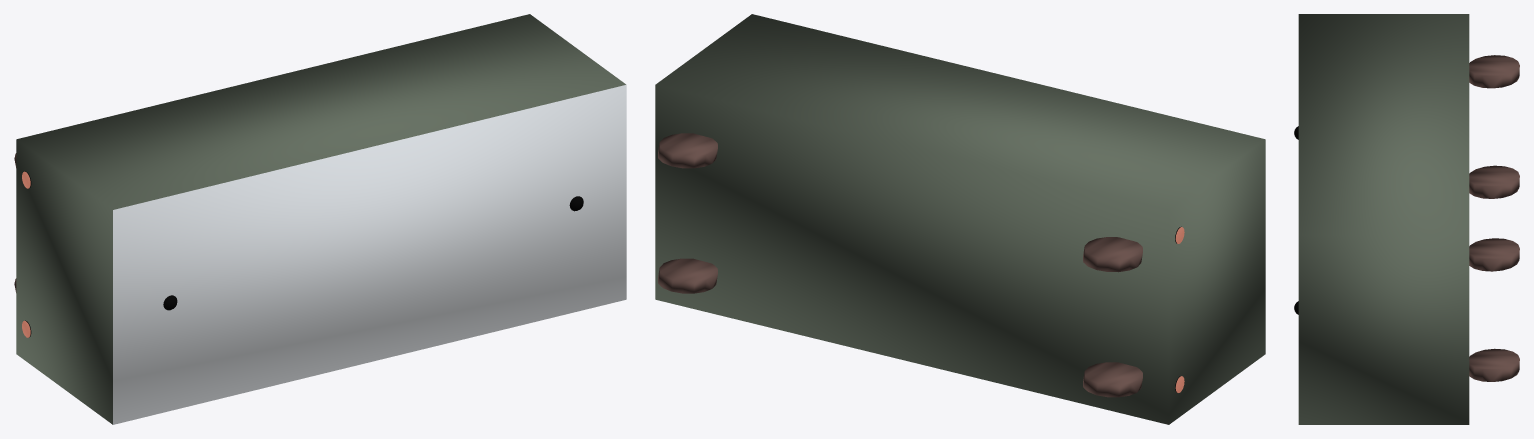
File: asset3.glb
3 renders of one model, left to right at view 1: azimuth 30°, elevation 25°; view 2: azimuth 150°, elevation 25°; view 3: azimuth 270°, elevation 25°, orthographic. The views are drawn at different scales.
Visible parts, largest first — view 1: Cube16; view 2: Cube16, Cylinder8_copy14, Cylinder8_copy9, Cylinder8_copy15, Cylinder8; view 3: Cube16, Cylinder8, Cylinder8_copy14, Cylinder8_copy9, Cylinder8_copy15.
Boxes of the visible parts, x1,y1,x2,y2 form: Cube16: (16,14,626,424); Cube16: (655,14,1265,424); Cylinder8_copy14: (658,133,717,168); Cylinder8_copy9: (1083,362,1142,397); Cylinder8_copy15: (658,258,717,293); Cylinder8: (1083,237,1142,272); Cube16: (1298,14,1469,424); Cylinder8: (1469,55,1519,88); Cylinder8_copy14: (1469,238,1519,271); Cylinder8_copy9: (1469,165,1519,198); Cylinder8_copy15: (1469,348,1519,381).
Size of the model in its own units: 1 by 0.4 by 0.4314.
